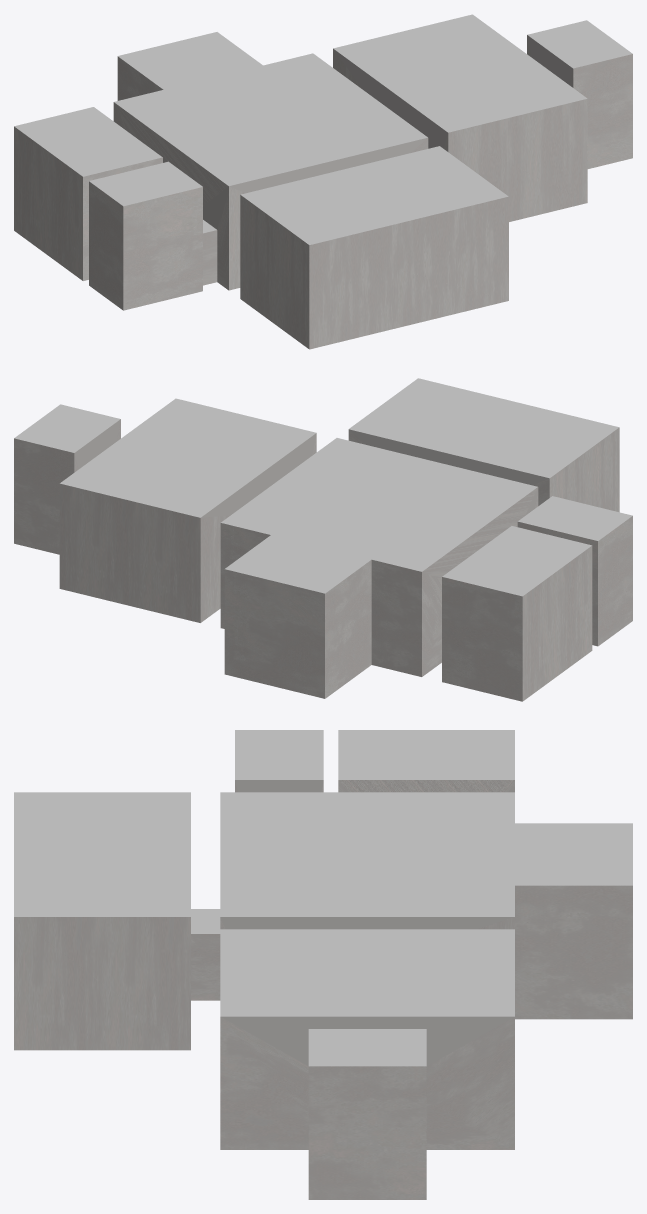
The model's file is building.fbx.
The picture shows the model from 3 angles, top to bottom: view 1: azimuth 30°, elevation 25°; view 2: azimuth 150°, elevation 25°; view 3: azimuth 270°, elevation 25°; orthographic projection. The views are drawn at different scales.
Visible parts, largest first — view 1: building; view 2: building; view 3: building.
Part boxes in pixels (bbox=[...]): building: bbox=[14, 14, 632, 349]; building: bbox=[14, 378, 632, 701]; building: bbox=[14, 730, 632, 1199].
Bounding box in the file's own units: 2700 × 500 × 2100.
